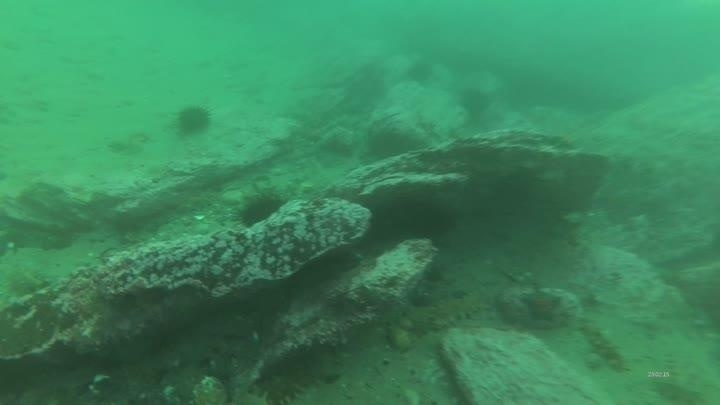echinus: (235, 187, 286, 229), (365, 126, 414, 164), (173, 102, 214, 139), (456, 85, 492, 120), (405, 58, 436, 87)
holothurian: (387, 290, 491, 344), (251, 350, 339, 404), (577, 318, 630, 374)
starfish: (519, 287, 563, 325)
